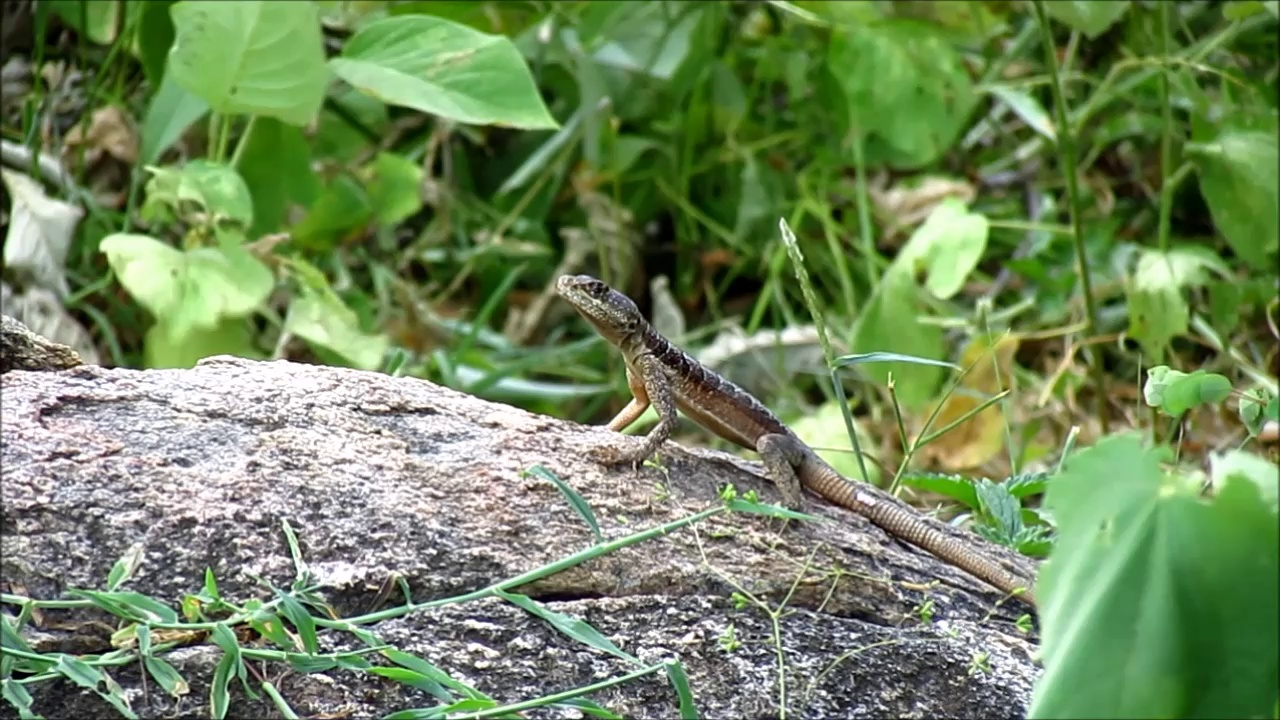body: (596, 313, 1037, 606)
head: (556, 274, 638, 337)
